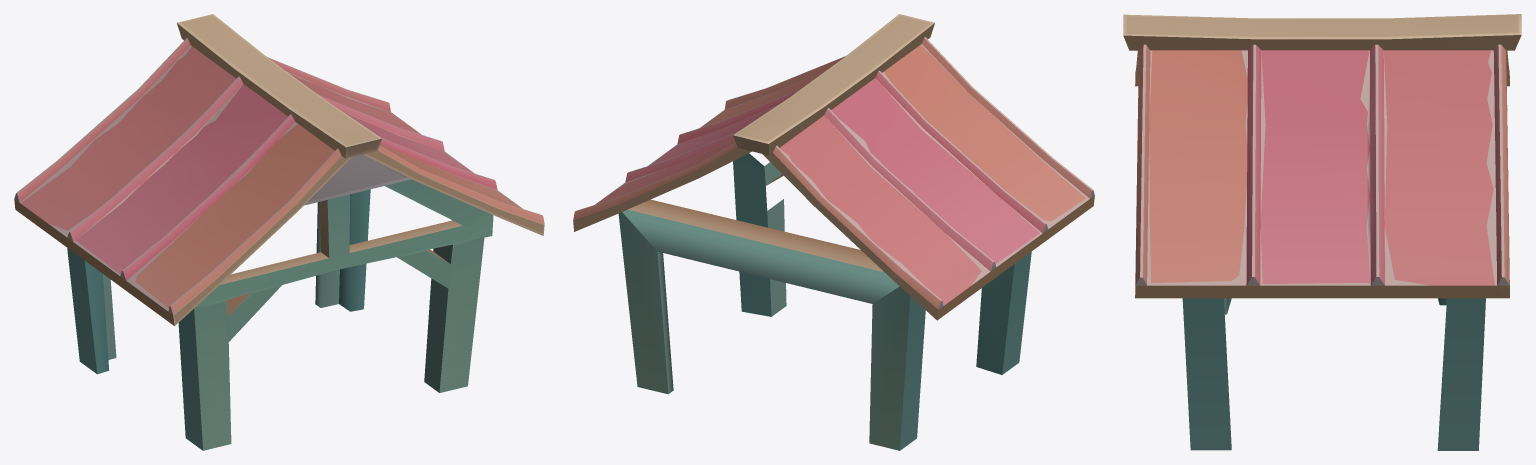
File: RescueStationRoof_1.glb
The picture shows the model from 3 angles, left to right: view 1: azimuth 30°, elevation 25°; view 2: azimuth 150°, elevation 25°; view 3: azimuth 270°, elevation 25°; orthographic projection. The views are drawn at different scales.
Parts seen in each view (by area): view 1: RescueStationRoof; view 2: RescueStationRoof; view 3: RescueStationRoof.
Boxes of the visible parts, x1=… form: RescueStationRoof: x1=14, y1=14, x2=544, y2=450; RescueStationRoof: x1=573, y1=14, x2=1094, y2=450; RescueStationRoof: x1=1123, y1=14, x2=1521, y2=450.
Bounding box in the file's own units: 5.83 × 4.46 × 4.59.
